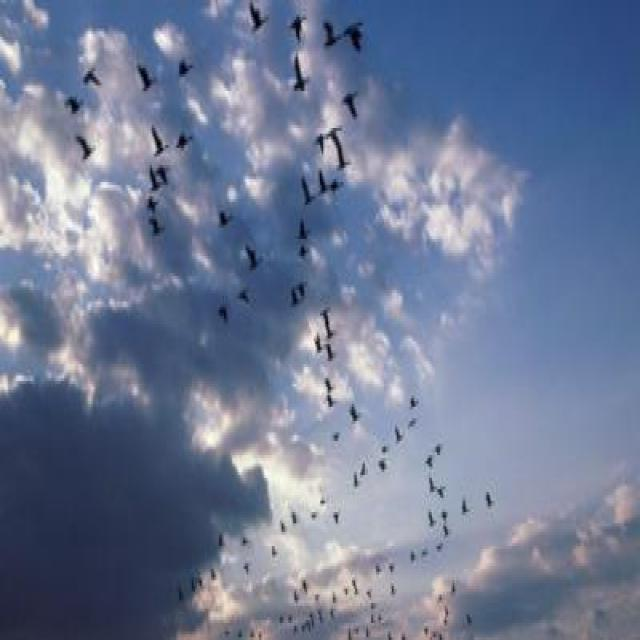birds: (70, 125, 98, 166), (329, 122, 350, 172), (288, 51, 310, 97), (132, 60, 160, 96), (147, 121, 170, 161), (343, 16, 364, 57), (62, 88, 88, 121), (248, 2, 273, 36), (318, 16, 341, 52), (286, 10, 310, 44), (339, 91, 362, 124), (294, 210, 312, 247), (319, 303, 336, 342), (215, 204, 237, 232), (244, 241, 261, 276), (82, 64, 102, 92), (300, 170, 314, 210), (310, 128, 328, 158), (176, 128, 194, 157), (145, 164, 164, 191), (176, 54, 195, 80), (215, 297, 232, 326), (316, 162, 328, 201), (235, 284, 251, 313), (146, 216, 165, 239), (348, 399, 363, 426), (294, 241, 312, 263), (484, 486, 498, 514), (330, 174, 345, 200), (459, 492, 472, 520), (144, 193, 161, 214), (239, 530, 253, 554), (329, 507, 344, 528), (157, 164, 170, 188), (324, 341, 336, 366), (407, 388, 420, 411), (294, 280, 310, 298), (406, 414, 420, 434), (393, 421, 405, 444), (350, 467, 361, 491), (311, 333, 322, 356), (322, 374, 334, 394), (376, 457, 388, 476), (424, 452, 436, 471), (350, 576, 360, 598), (242, 558, 253, 578), (217, 528, 227, 550), (187, 574, 197, 596), (290, 506, 300, 527), (388, 579, 398, 600), (428, 473, 437, 496), (270, 539, 279, 562), (358, 458, 368, 478), (428, 508, 437, 530), (288, 290, 300, 306), (448, 578, 458, 597), (379, 441, 391, 456), (435, 439, 444, 459), (409, 546, 418, 566), (307, 509, 319, 524), (316, 606, 326, 624), (177, 586, 186, 606), (324, 394, 335, 410), (318, 494, 328, 511), (197, 568, 204, 592), (437, 482, 446, 500), (388, 560, 397, 578), (208, 564, 217, 582), (434, 538, 444, 554), (374, 560, 383, 577), (307, 611, 316, 628), (332, 427, 340, 446), (300, 575, 308, 594), (439, 507, 449, 522), (286, 609, 294, 627), (465, 611, 473, 628), (421, 545, 429, 561), (279, 518, 287, 534), (293, 589, 301, 605), (277, 610, 285, 626), (313, 590, 321, 606), (354, 622, 362, 638), (366, 585, 374, 600), (247, 627, 256, 640), (342, 585, 349, 601), (304, 617, 311, 633), (346, 625, 354, 639), (222, 627, 232, 638), (332, 588, 338, 606), (442, 524, 450, 537), (292, 621, 299, 635), (436, 592, 444, 604), (399, 628, 407, 640), (386, 628, 394, 640), (422, 623, 429, 636), (238, 626, 244, 639), (443, 606, 449, 618), (441, 618, 448, 628), (366, 624, 370, 640), (300, 624, 306, 634), (432, 628, 437, 639), (371, 602, 377, 611), (256, 631, 262, 640), (438, 630, 443, 640), (377, 614, 382, 622)
